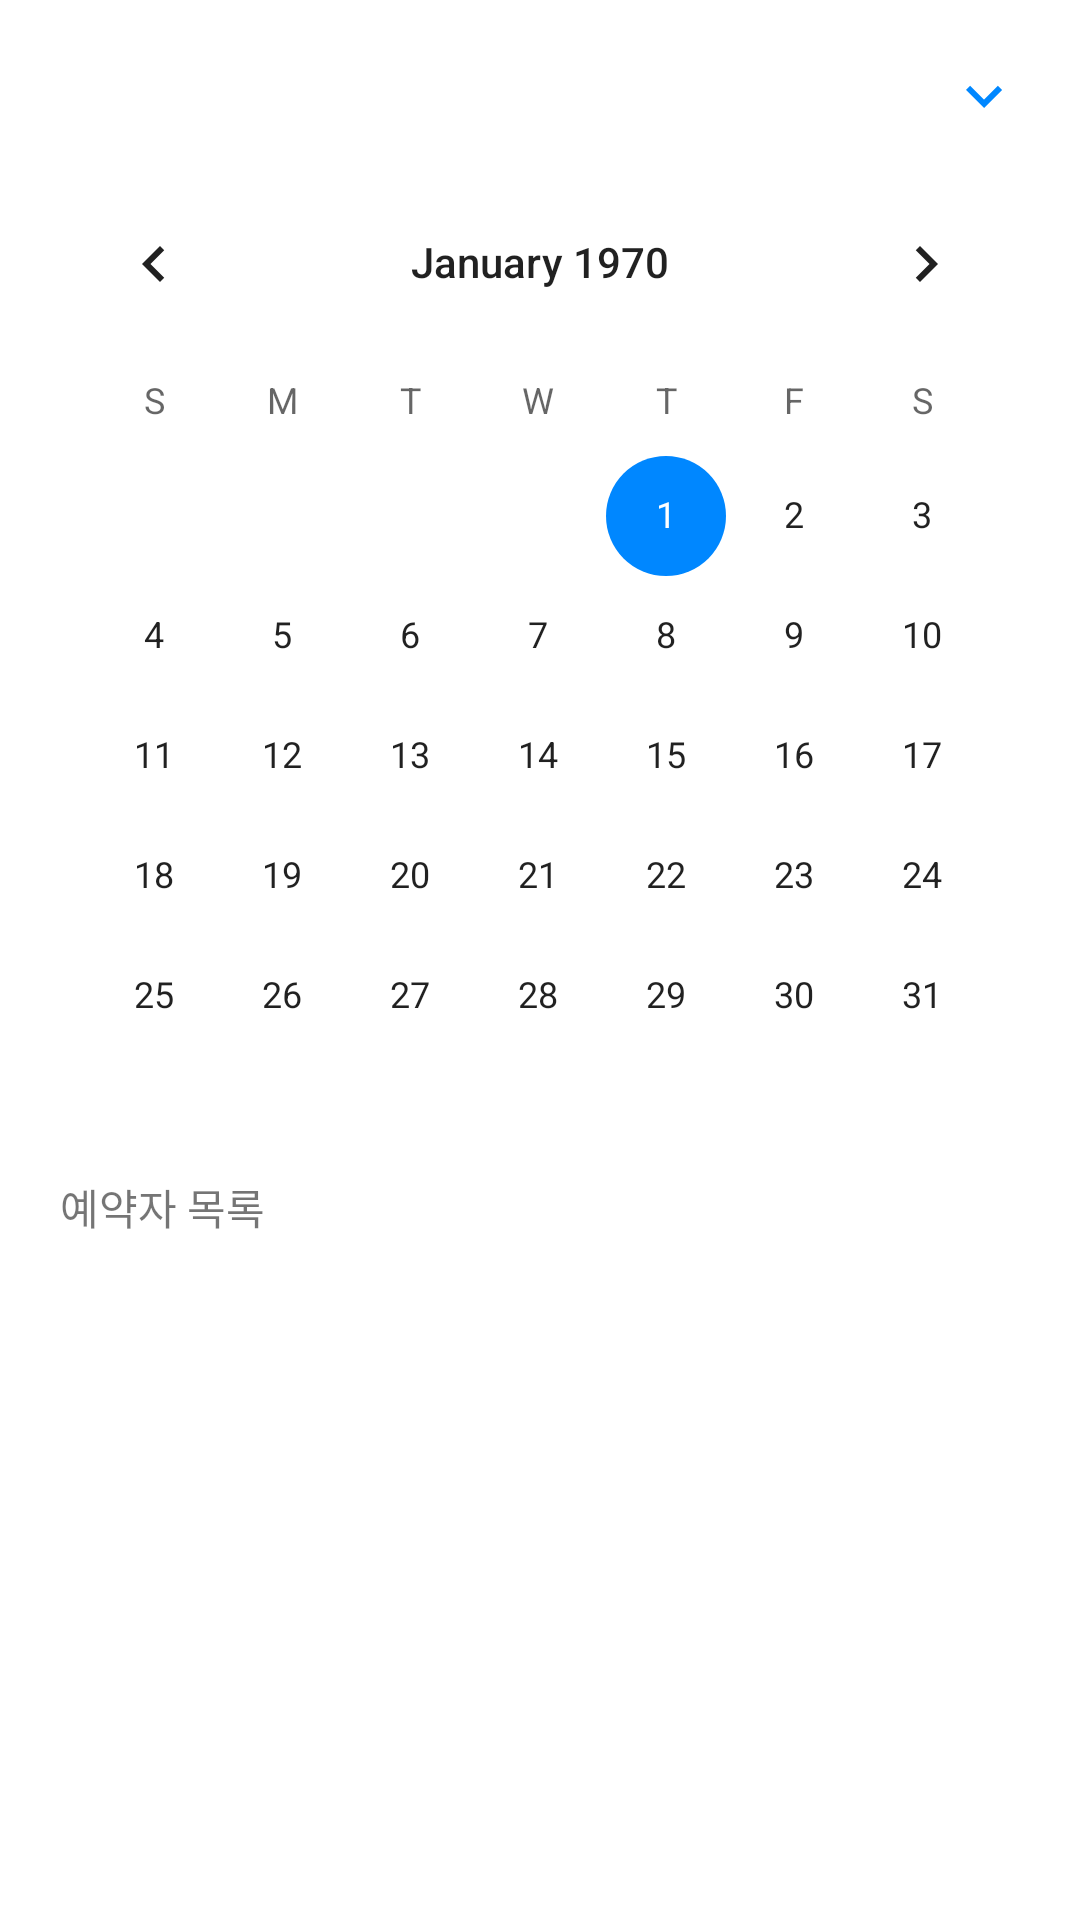

Named icons in this screenshot (1080px x 1920px) and their centers, (x=x, y=y):
down: (x=984, y=97)
